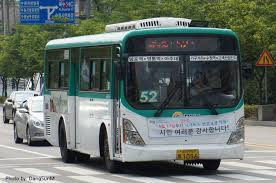bnum: (138, 89, 159, 103)
